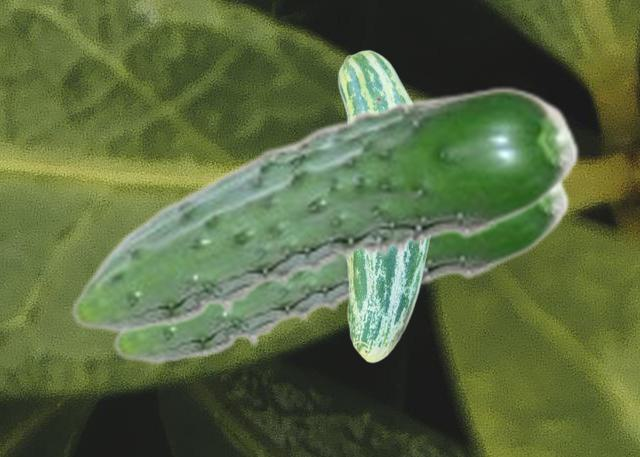cucumber: (70, 86, 580, 332), (112, 181, 570, 363), (337, 49, 431, 362)
